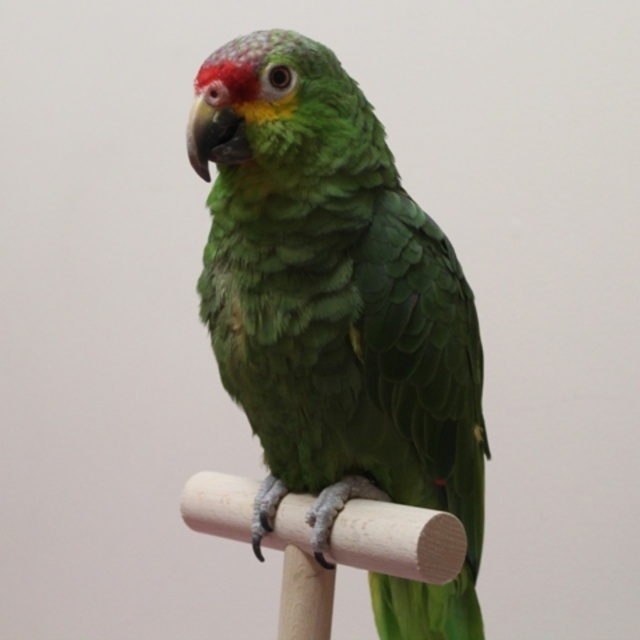Parrot: (177, 28, 524, 639)
